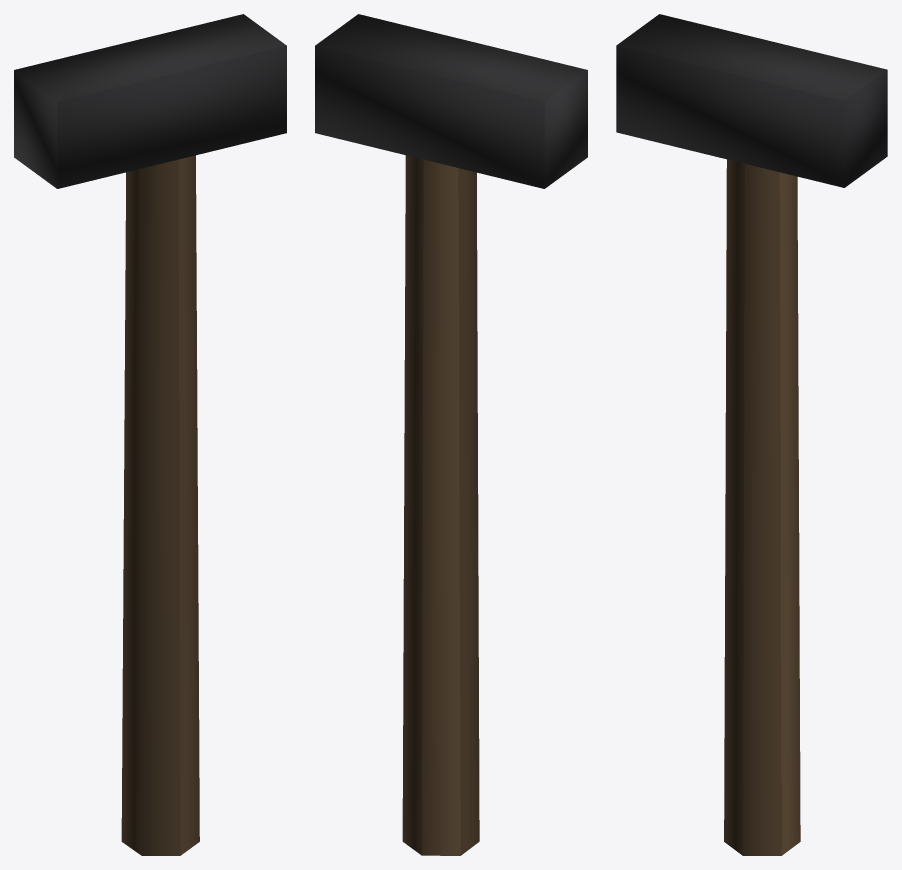
Rendered from martello.glb.
3 views of the same model, side by side, from view 1: azimuth 30°, elevation 25°; view 2: azimuth 150°, elevation 25°; view 3: azimuth 330°, elevation 25° (orthographic).
Parts seen in each view (by area): view 1: martello; view 2: martello; view 3: martello.
Boxes of the visible parts, <box> form: martello: <box>14,14,286,855</box>; martello: <box>315,14,587,855</box>; martello: <box>616,14,887,855</box>.
Size of the model in its own units: 0.11 by 0.36 by 0.036.
